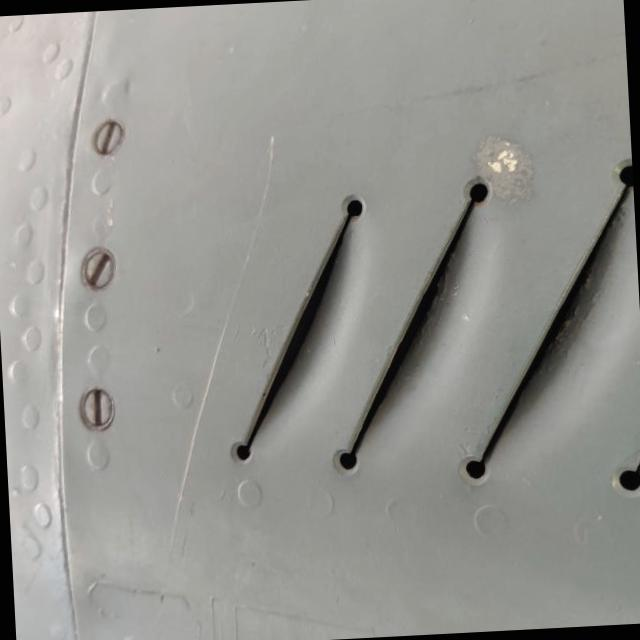scratch: (136, 120, 324, 560)
